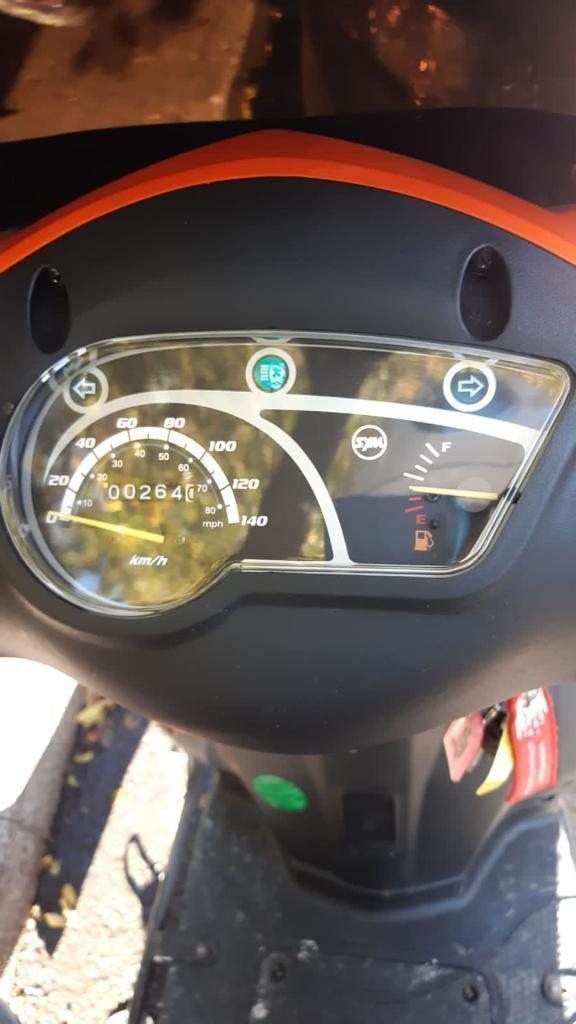0: (107, 484, 120, 499), (123, 483, 135, 499), (187, 486, 196, 501)
2: (138, 484, 152, 500)
4: (170, 484, 182, 500)
6: (154, 483, 167, 499)
odometer: (100, 480, 197, 505)
